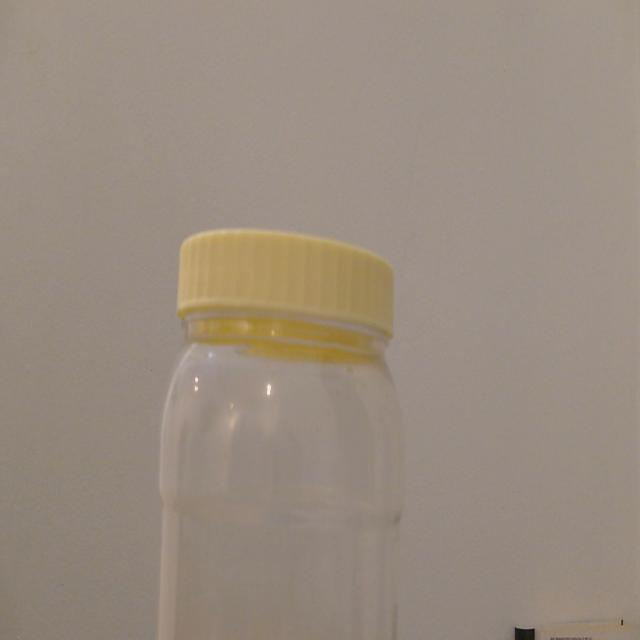cap: (140, 213, 420, 361)
